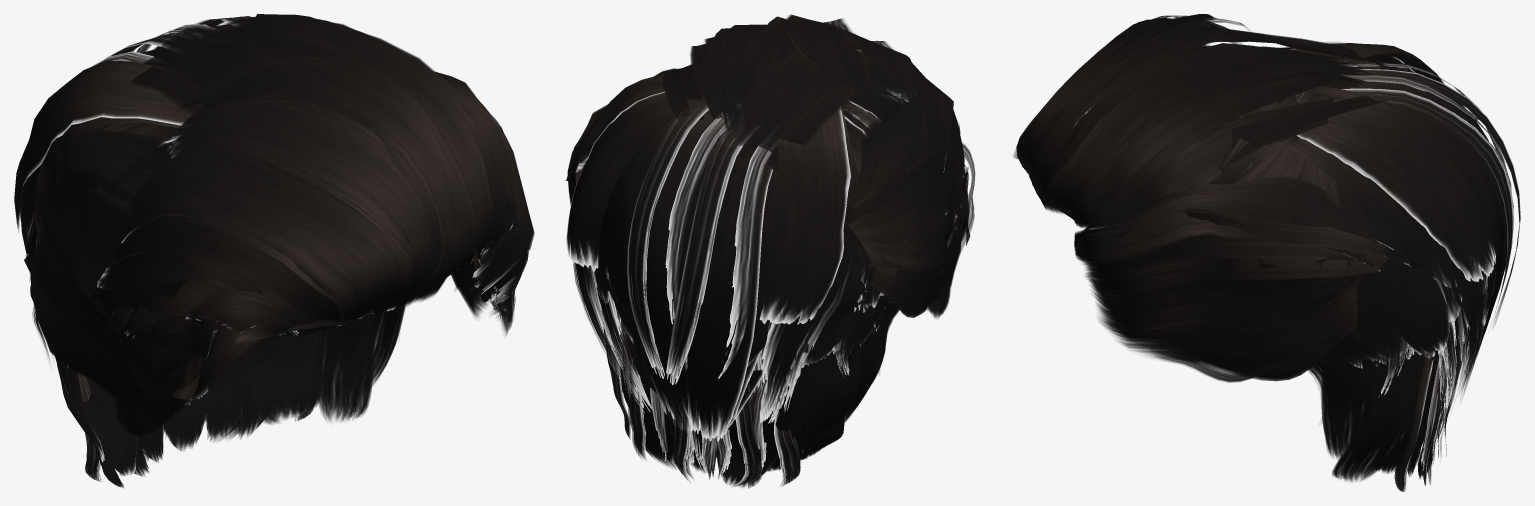
File: Rectangle_Straight_CombOver.glb
The picture shows the model from 3 angles, left to right: view 1: azimuth 30°, elevation 25°; view 2: azimuth 150°, elevation 25°; view 3: azimuth 270°, elevation 25°; orthographic projection. The views are drawn at different scales.
Visible parts, largest first — view 1: COMB OVER; view 2: COMB OVER; view 3: COMB OVER.
Boxes of the visible parts, bbox=[...] form: COMB OVER: bbox=[14, 14, 534, 487]; COMB OVER: bbox=[566, 14, 975, 488]; COMB OVER: bbox=[1014, 14, 1520, 491].
Size of the model in its own units: 0.2036 by 0.2217 by 0.2393.
Materials: 1 (1 with a texture image).
